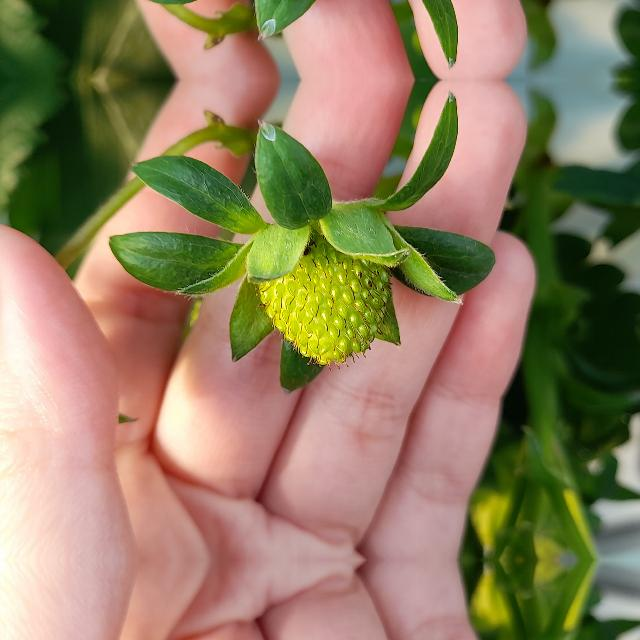Health_25: (255, 226, 393, 370)
